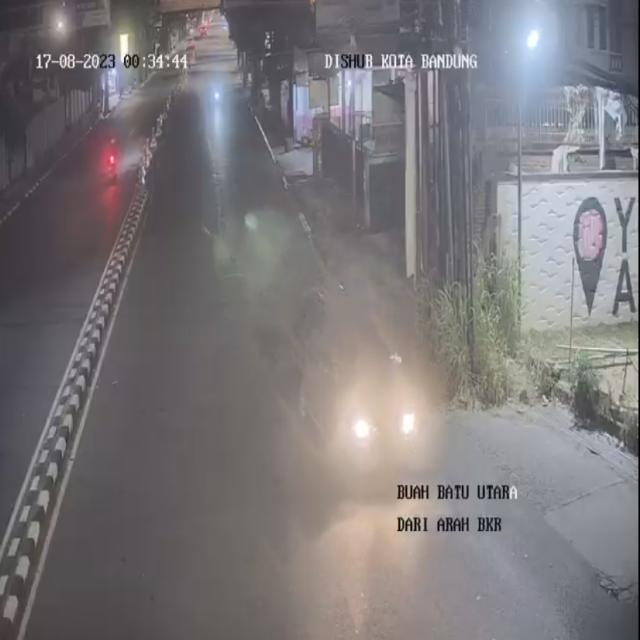cars: (308, 302, 432, 490)
